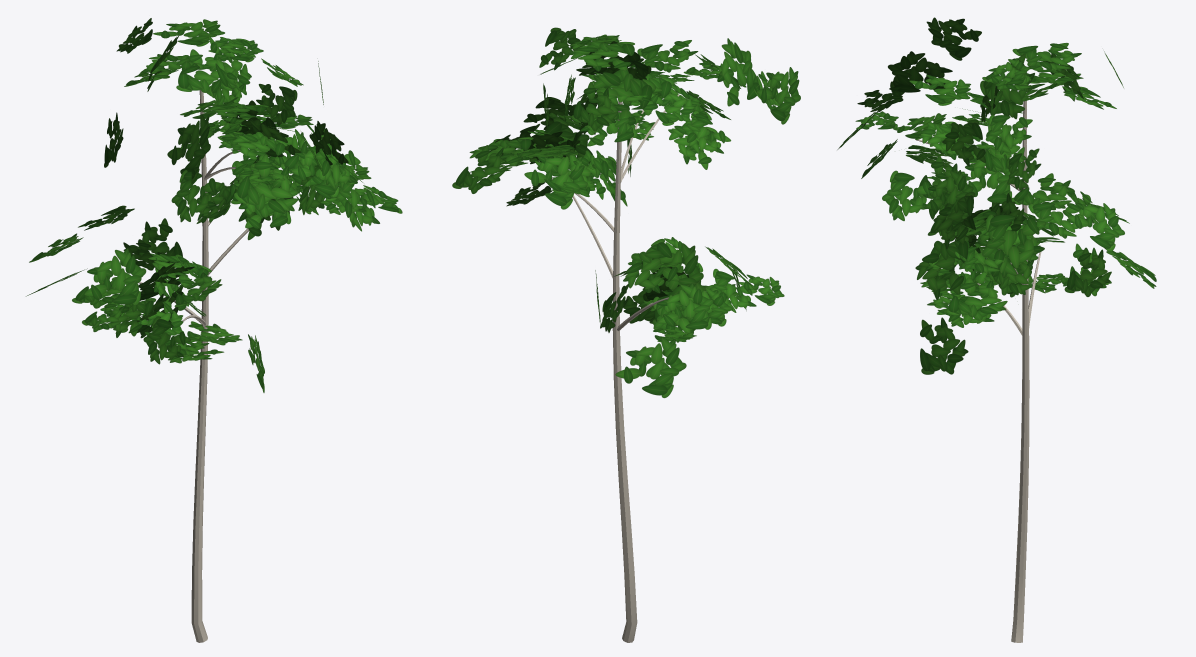
File: arvore_fina_a.glb
3 views of the same model, side by side, from view 1: azimuth 30°, elevation 25°; view 2: azimuth 150°, elevation 25°; view 3: azimuth 270°, elevation 25° (orthographic).
Visible parts, largest first — view 1: arvore_fina_a; view 2: arvore_fina_a; view 3: arvore_fina_a.
Part boxes in pixels (x1,y1,x2,y2): arvore_fina_a: (26, 18, 402, 642); arvore_fina_a: (452, 27, 800, 642); arvore_fina_a: (837, 17, 1156, 642).
Size of the model in its own units: 5.52 by 9.65 by 5.07.
Materials: 2 (1 with a texture image).
